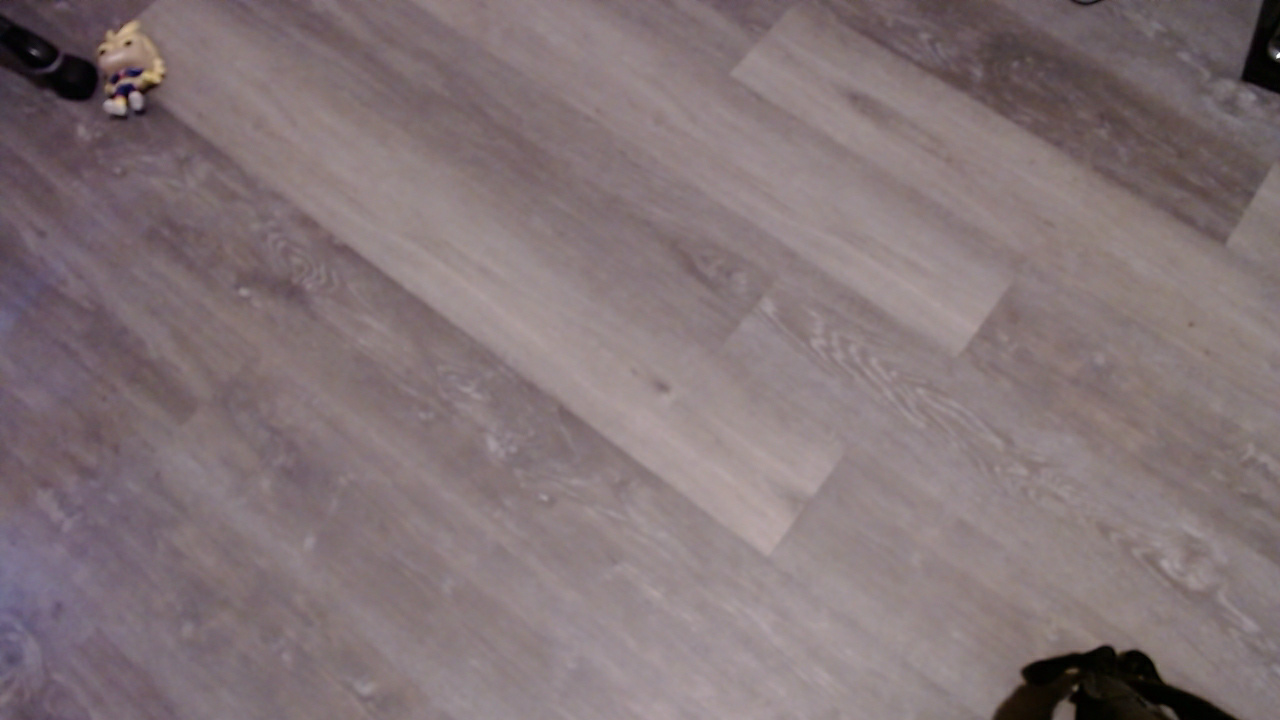all_might: (98, 20, 178, 135)
